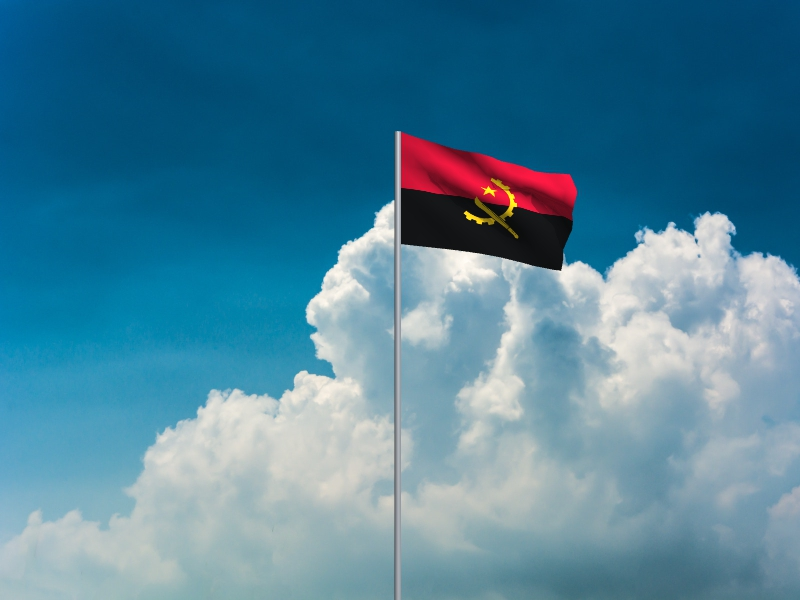ao: (402, 133, 580, 274)
